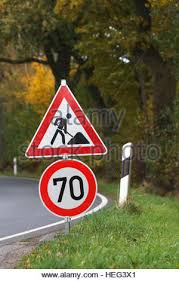Speed_limit_70km: (37, 159, 99, 218)
